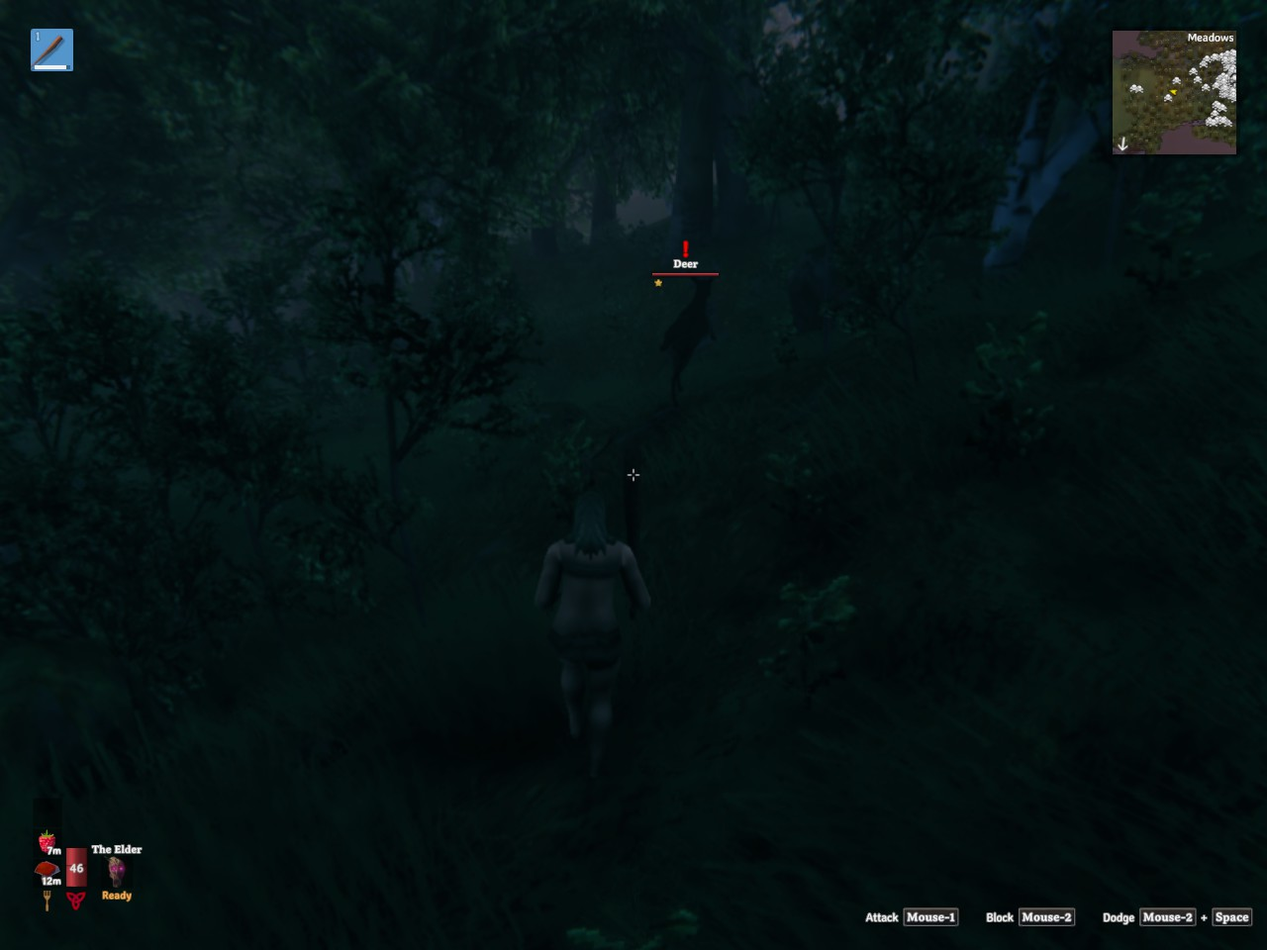Deer: (659, 276, 716, 405)
